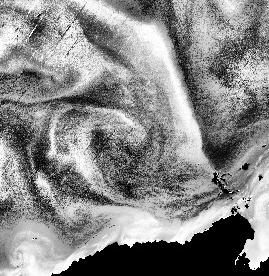CE: (7, 235, 44, 267)
